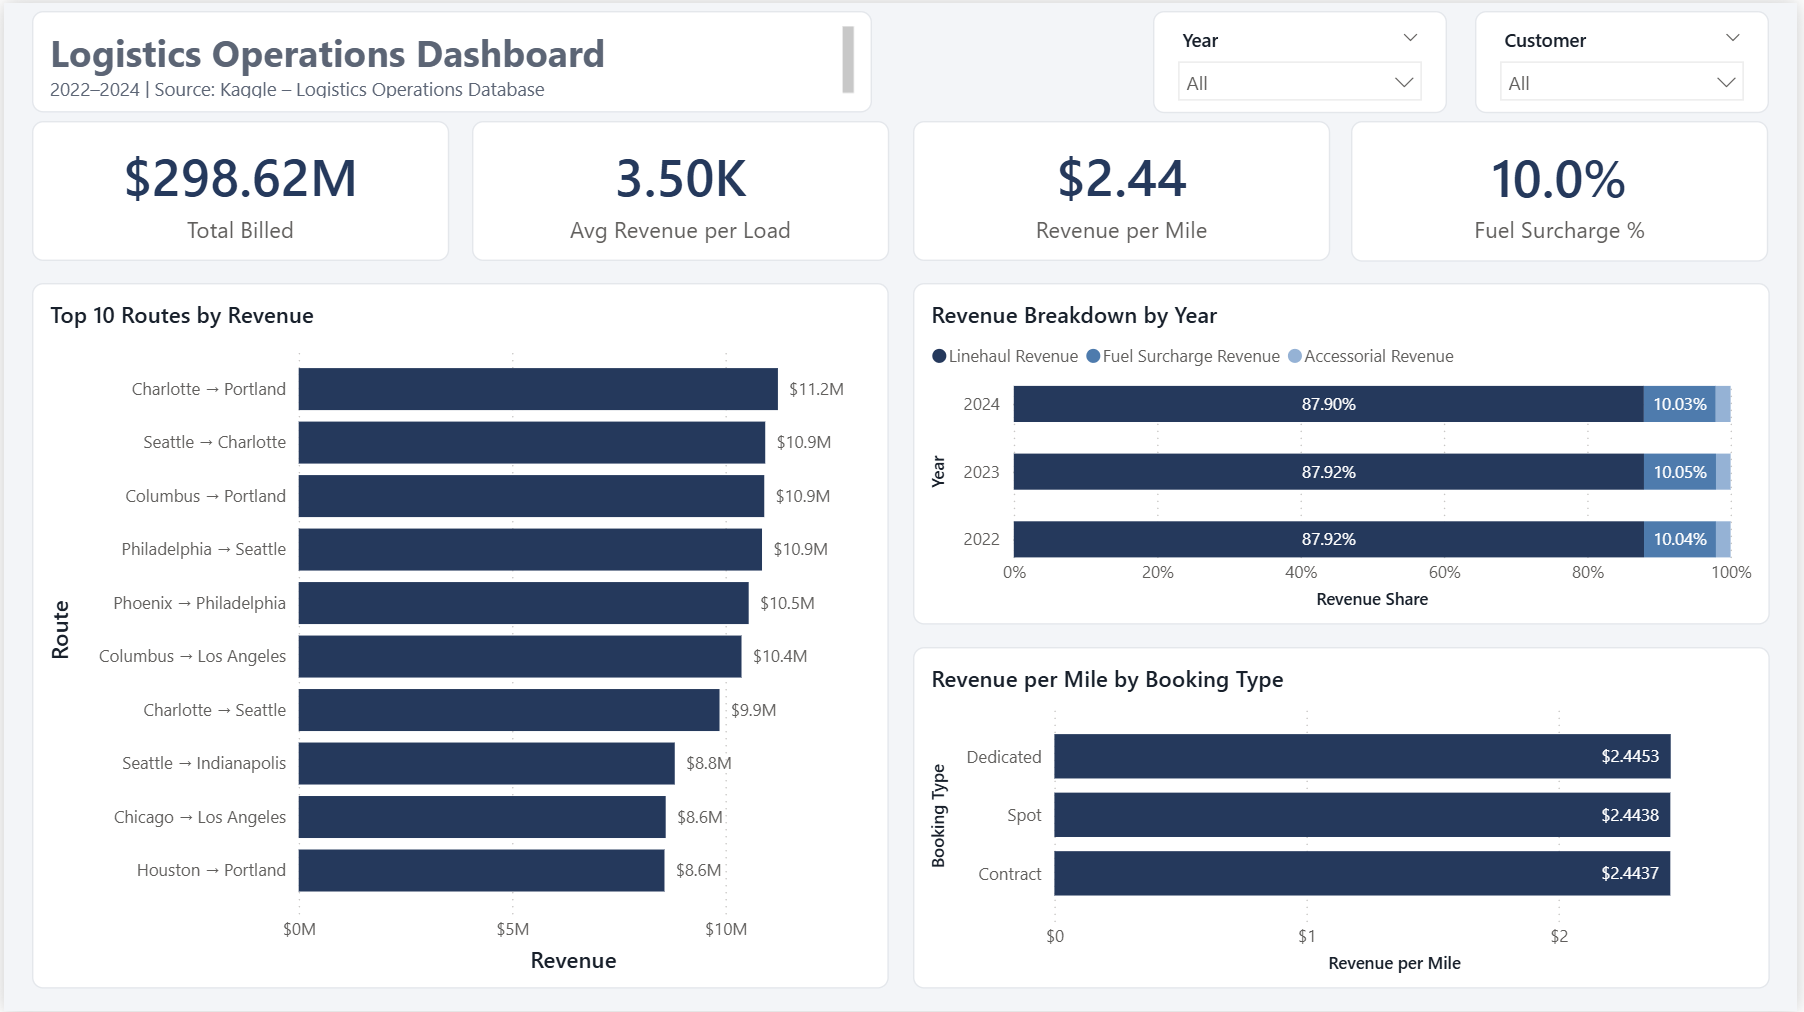

The dashboard page shown, as its layout file describes it:
{"tool":"powerbi","page":{"name":"Revenue & Customers","canvas":[1280,720],"ordinal":3},"visuals":[{"type":"slicer","fields":{"Values":["Date.Year"]},"box":[820,5,210,73],"z":0},{"type":"slicer","fields":{"Values":["customers.customer_name"]},"box":[1050,5,210.2,73],"z":1000},{"type":"textbox","box":[20,5,599.8,72.3],"z":2000},{"type":"card","fields":{"Values":["loads.Fuel Surcharge %"]},"box":[962,84,298,100.4],"z":3000},{"type":"card","fields":{"Values":["loads.Total Billed"]},"box":[20,84,298,100],"z":4000},{"type":"card","fields":{"Values":["loads.Avg Revenue per Load"]},"box":[334,84,298,100],"z":5000},{"type":"card","fields":{"Values":["loads.Revenue per Mile"]},"box":[648,84,298,100],"z":6000},{"type":"clusteredBarChart","title":"Top 10 Routes by Revenue","fields":{"Category":["routes.Route"],"Y":["loads.Total Billed"]},"box":[20,200,611.9,504],"z":7000},{"type":"hundredPercentStackedBarChart","title":"Revenue Breakdown by Year","fields":{"Category":["Date.Year"],"Y":["loads.Linehaul Revenue","loads.Fuel Surcharge Revenue","loads.Accessorial Revenue"]},"box":[648,200,612,244],"z":8000},{"type":"clusteredBarChart","title":"Revenue per Mile by Booking Type","fields":{"Category":["loads.booking_type"],"Y":["loads.Revenue per Mile"]},"box":[648,460,612,244],"z":9000}]}

Visuals, with their boxes in screenshot pixels (x1, y1, x2, y2), scaled from the page's 1280x720 canvas onto the 1804x1012 screenshot:
slicer - Date.Year: locate(1156, 7, 1452, 110)
slicer - customers.customer_name: locate(1480, 7, 1776, 110)
textbox: locate(28, 7, 874, 109)
card - loads.Fuel Surcharge %: locate(1356, 118, 1776, 259)
card - loads.Total Billed: locate(28, 118, 448, 259)
card - loads.Avg Revenue per Load: locate(471, 118, 891, 259)
card - loads.Revenue per Mile: locate(913, 118, 1333, 259)
"Top 10 Routes by Revenue" clusteredBarChart: locate(28, 281, 891, 990)
"Revenue Breakdown by Year" hundredPercentStackedBarChart: locate(913, 281, 1776, 624)
"Revenue per Mile by Booking Type" clusteredBarChart: locate(913, 647, 1776, 990)
